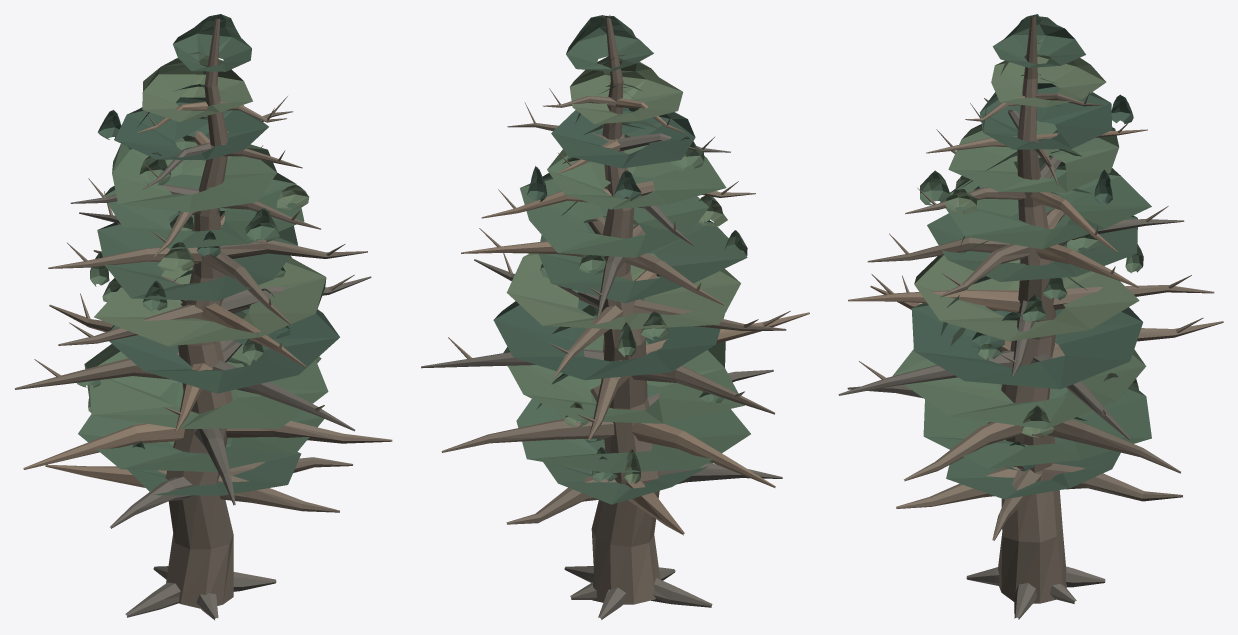
The model's file is Midgard_Natural_Spruce_V2_YUP.glb.
The picture shows the model from 3 angles, left to right: view 1: azimuth 30°, elevation 25°; view 2: azimuth 150°, elevation 25°; view 3: azimuth 270°, elevation 25°; orthographic projection.
Visible parts, largest first — view 1: world; view 2: world; view 3: world.
Boxes of the visible parts, bbox=[...] form: world: bbox=[14, 14, 392, 620]; world: bbox=[421, 15, 809, 619]; world: bbox=[838, 14, 1223, 619].
Bounding box in the file's own units: 4.82 × 8.06 × 4.81.
